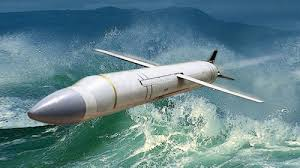ten_lua: (26, 42, 256, 125)
